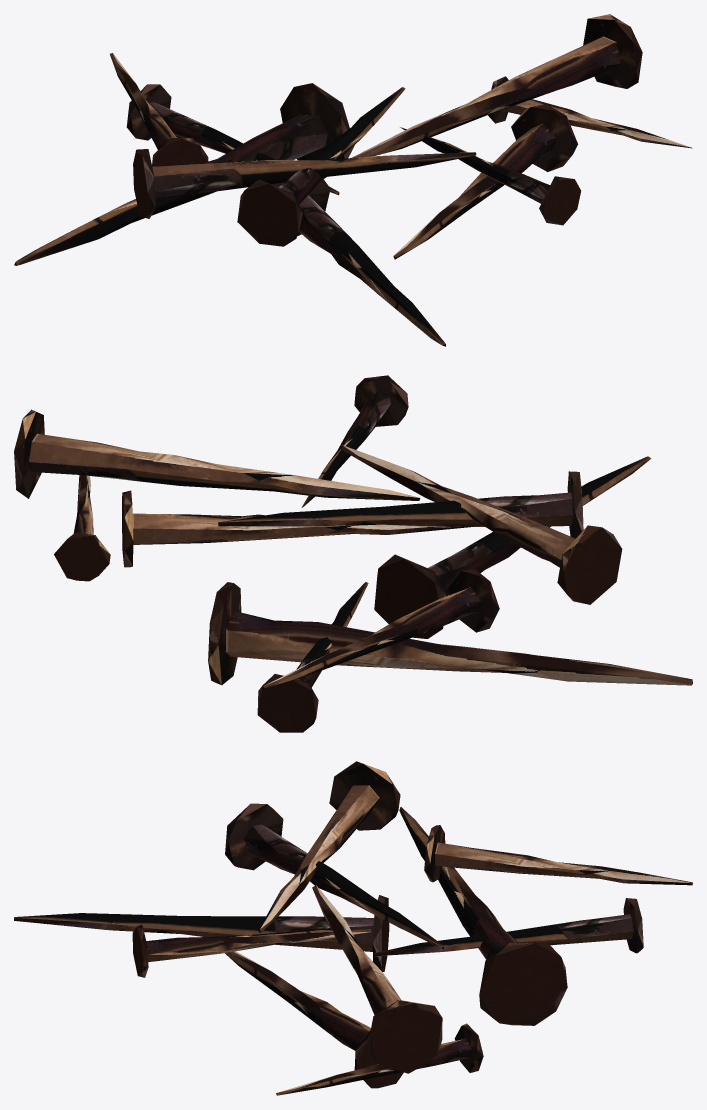
3 views of the same model, one above another, from view 1: azimuth 30°, elevation 25°; view 2: azimuth 150°, elevation 25°; view 3: azimuth 270°, elevation 25° (orthographic). The views are drawn at different scales.
Parts seen in each view (by area): view 1: Nails_rust; view 2: Nails_rust; view 3: Nails_rust.
Part boxes in pixels (x1,y1,x2,y2): Nails_rust: (14, 14, 692, 346); Nails_rust: (14, 375, 692, 732); Nails_rust: (14, 761, 692, 1095).
Bounding box in the file's own units: 3.44 × 0.7611 × 3.31.
1 material, 1 textured.
